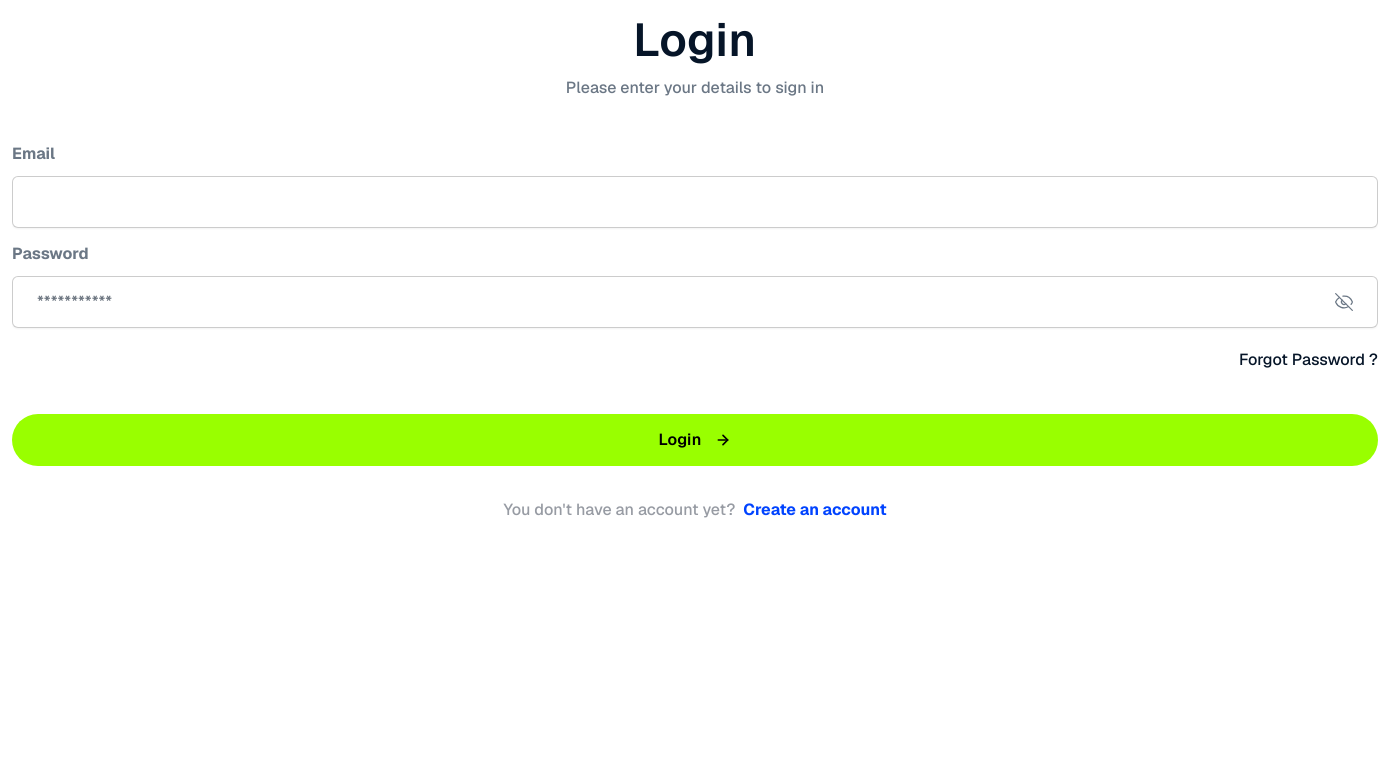
Test: LoginForm › Validation › should show password required error when password is empty
Type "test@example.com" into the field labelled "Email" at (695, 202), box [12, 176, 1378, 228]
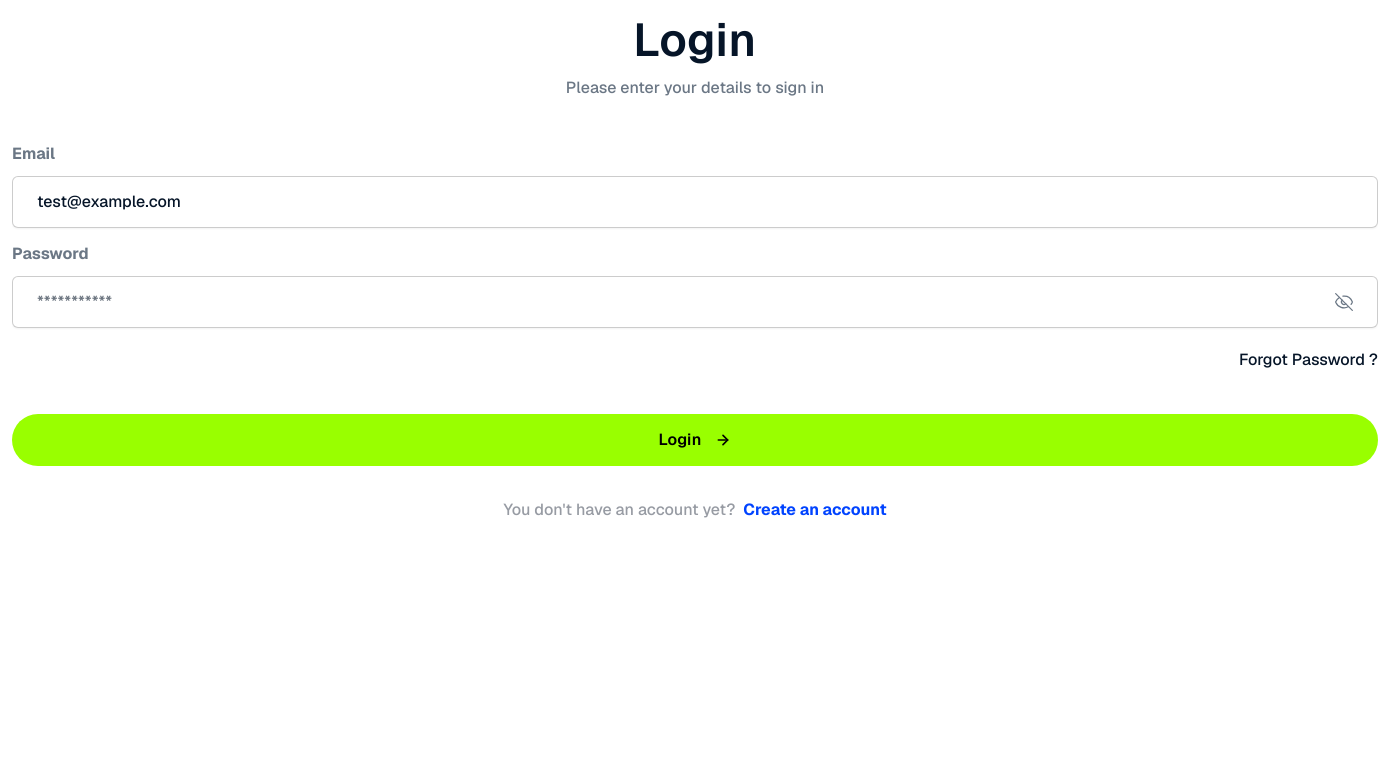
Click the button "Login" at (695, 440), box [12, 414, 1378, 466]
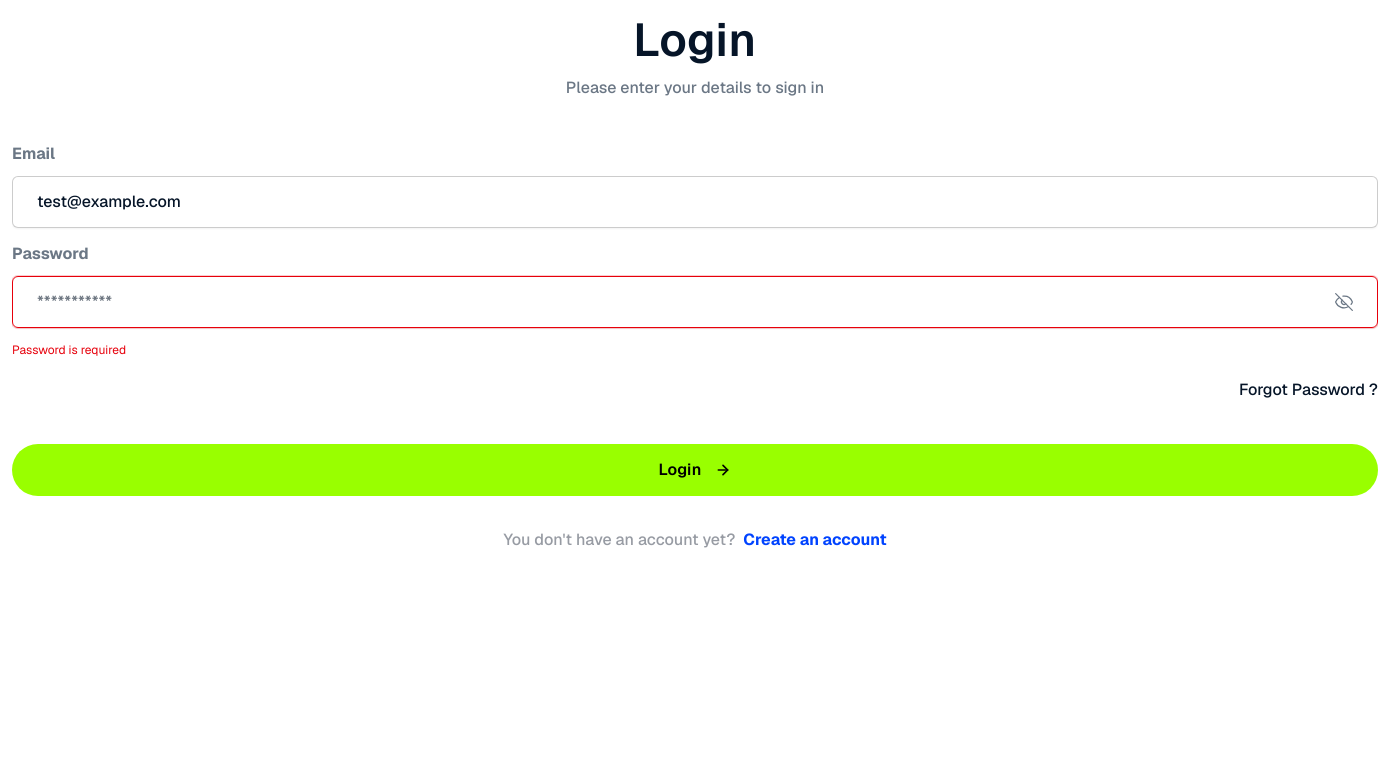
Now the text "Password is required" is shown, box [12, 342, 126, 358]
